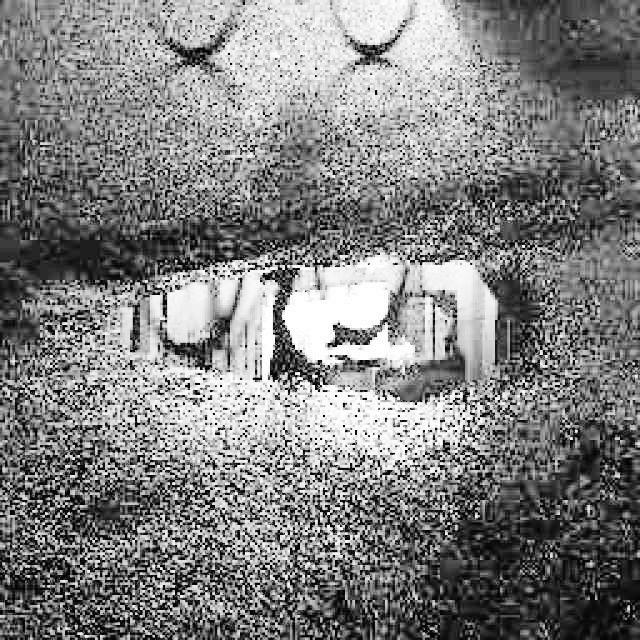Pothole: (58, 225, 559, 426)
